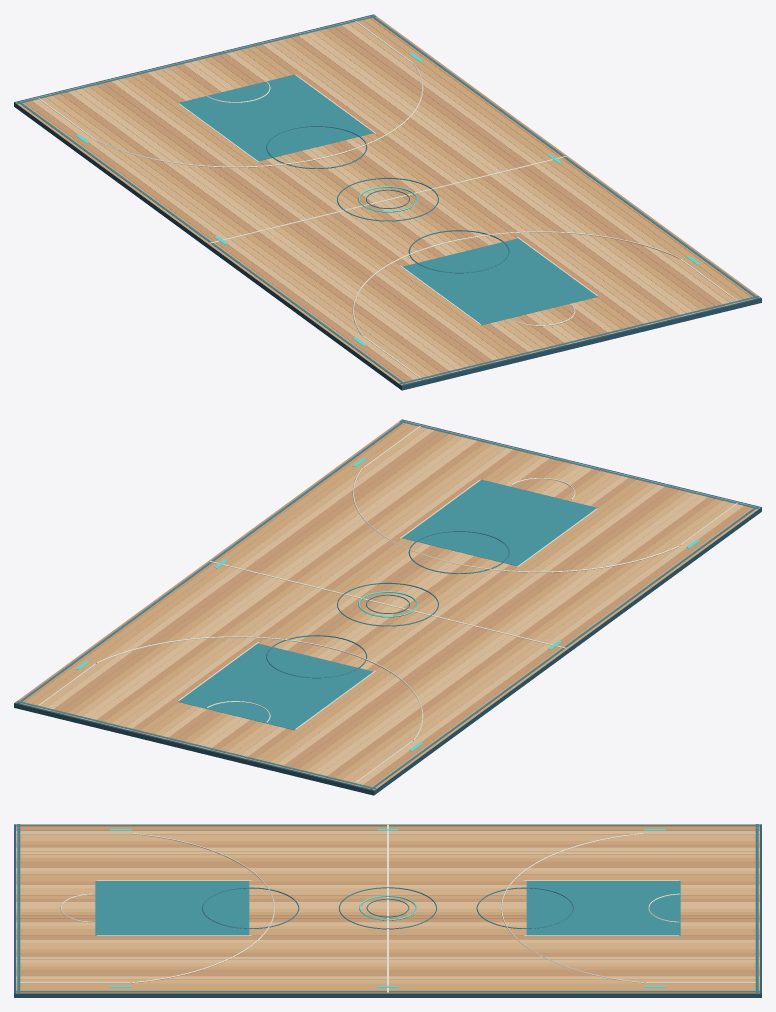
Rendered from court.gltf.
3 renders of one model, top to bottom at view 1: azimuth 30°, elevation 25°; view 2: azimuth 150°, elevation 25°; view 3: azimuth 270°, elevation 25°, orthographic. The views are drawn at different scales.
Parts seen in each view (by area): view 1: FibaBasketballCourt_15x28; view 2: FibaBasketballCourt_15x28; view 3: FibaBasketballCourt_15x28.
Part boxes in pixels (x1=…): FibaBasketballCourt_15x28: x1=14, y1=14, x2=761, y2=390; FibaBasketballCourt_15x28: x1=14, y1=419, x2=761, y2=795; FibaBasketballCourt_15x28: x1=14, y1=824, x2=761, y2=997.
Size of the model in its own units: 15 by 0.2396 by 28.
